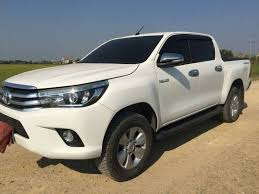pickup: (1, 30, 252, 182)
